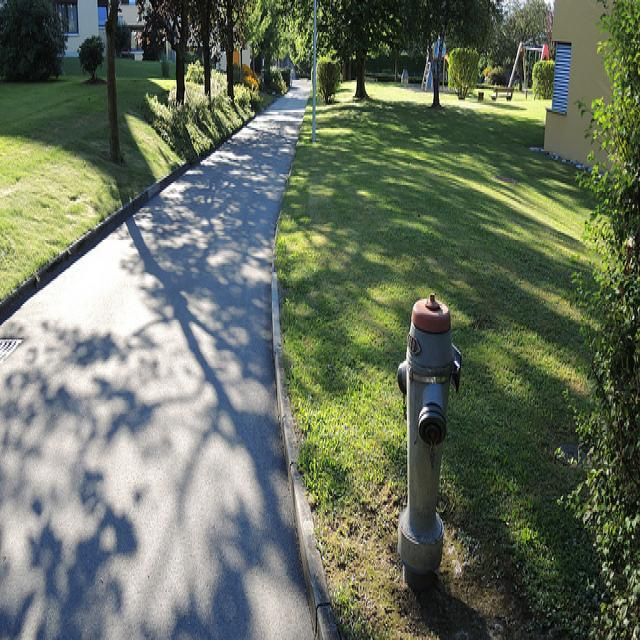fire_hydrant: (394, 290, 462, 569)
